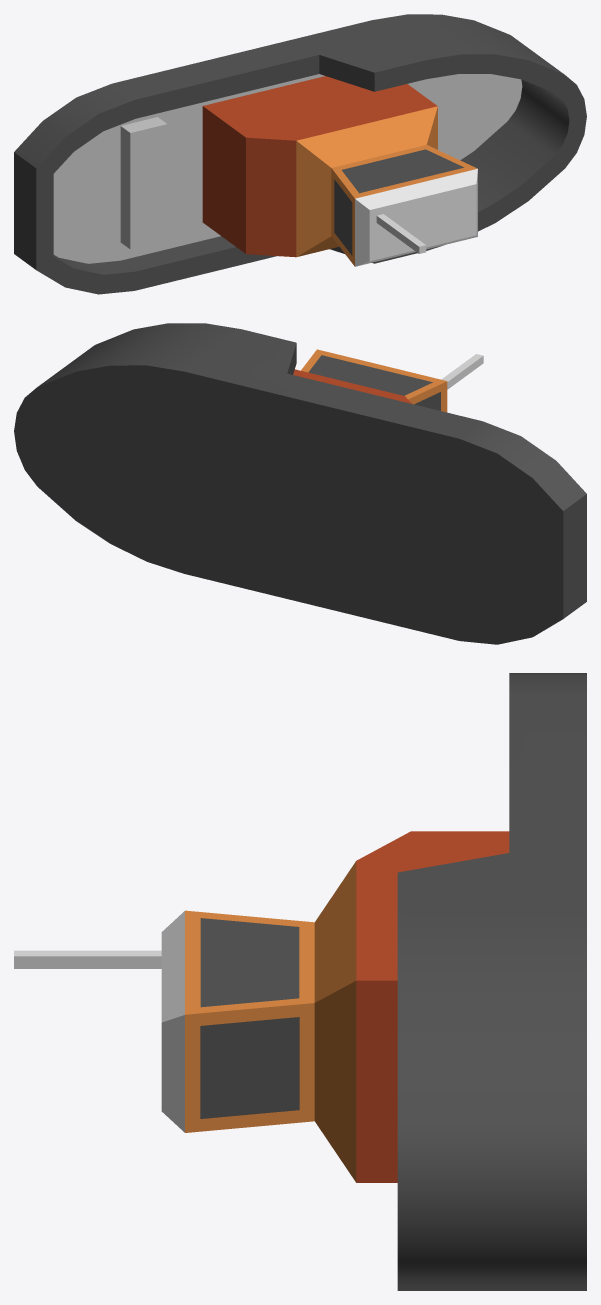
File: tug.dae
The picture shows the model from 3 angles, top to bottom: view 1: azimuth 30°, elevation 25°; view 2: azimuth 150°, elevation 25°; view 3: azimuth 270°, elevation 25°; orthographic projection. The views are drawn at different scales.
Parts seen in each view (by area): view 1: coords_ME_ID3_MA_material, coords_ME_ID33_MA_material_11, coords_ME_ID59_MA_material_14, coords_ME_ID19_MA_material_10, coords_ME_ID27_MA_material_8, coords_ME_ID53_MA_material_11, coords_ME_ID73_MA_material, coords_ME_ID47_MA_material, coords_ME_ID11_MA_material_8; view 2: coords_ME_ID3_MA_material, coords_ME_ID73_MA_material, coords_ME_ID19_MA_material_10, coords_ME_ID59_MA_material_14, coords_ME_ID11_MA_material_8; view 3: coords_ME_ID3_MA_material, coords_ME_ID19_MA_material_10, coords_ME_ID59_MA_material_14, coords_ME_ID41_MA_material, coords_ME_ID73_MA_material, coords_ME_ID27_MA_material_8, coords_ME_ID11_MA_material_8.
Boxes of the visible parts, box(x1,y1,x2,y2) form: coords_ME_ID3_MA_material: box(14, 14, 586, 294); coords_ME_ID33_MA_material_11: box(53, 74, 522, 263); coords_ME_ID59_MA_material_14: box(202, 76, 437, 257); coords_ME_ID19_MA_material_10: box(296, 106, 477, 266); coords_ME_ID27_MA_material_8: box(355, 168, 477, 266); coords_ME_ID53_MA_material_11: box(120, 117, 167, 249); coords_ME_ID73_MA_material: box(341, 149, 463, 193); coords_ME_ID47_MA_material: box(334, 179, 352, 255); coords_ME_ID11_MA_material_8: box(376, 214, 426, 253); coords_ME_ID3_MA_material: box(14, 323, 586, 644); coords_ME_ID73_MA_material: box(308, 355, 432, 395); coords_ME_ID19_MA_material_10: box(301, 349, 447, 412); coords_ME_ID59_MA_material_14: box(293, 369, 411, 403); coords_ME_ID11_MA_material_8: box(441, 354, 483, 389); coords_ME_ID3_MA_material: box(397, 673, 586, 1290); coords_ME_ID19_MA_material_10: box(185, 861, 356, 1182); coords_ME_ID59_MA_material_14: box(356, 831, 509, 1182); coords_ME_ID41_MA_material: box(200, 1017, 299, 1118); coords_ME_ID73_MA_material: box(200, 918, 299, 1007); coords_ME_ID27_MA_material_8: box(161, 911, 184, 1132); coords_ME_ID11_MA_material_8: box(14, 950, 161, 968).
Size of the model in its own units: 424 by 149 by 234.
